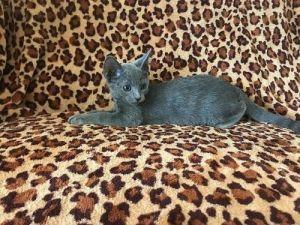rblue: (95, 40, 168, 119)
